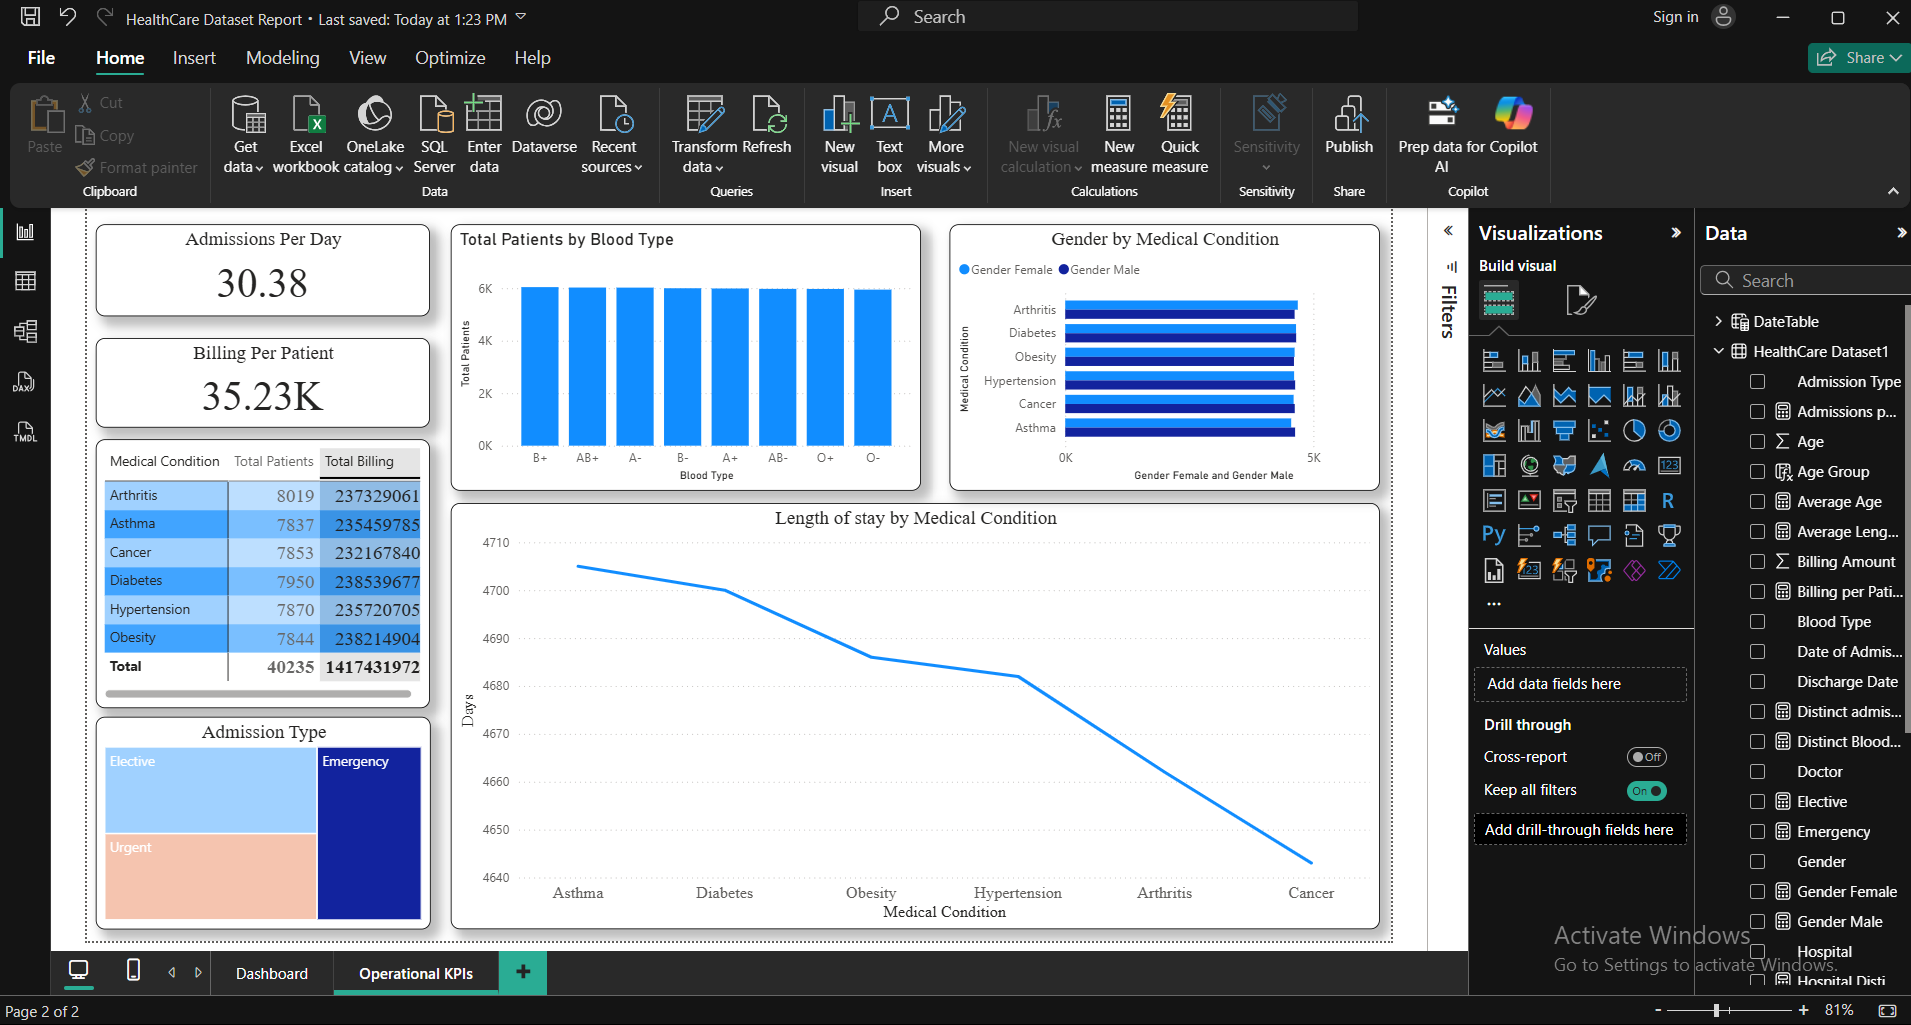

This screenshot's page, from the dashboard's own definition file:
{"tool":"powerbi","page":{"name":"Operational KPIs","canvas":[1280,720],"ordinal":1},"visuals":[{"type":"card","title":"Admissions Per Day","fields":{"Values":["HealthCare Dataset1.Admissions per Day"]},"box":[8.6,16,327.6,90.8],"z":0},{"type":"card","title":"Billing Per Patient","fields":{"Values":["HealthCare Dataset1.Billing per Patient"]},"box":[8.6,127.6,327.6,88.3],"z":1000},{"type":"pivotTable","fields":{"Rows":["HealthCare Dataset1.Medical Condition"],"Values":["HealthCare Dataset1.Total Patients","HealthCare Dataset1.Total Billing"]},"box":[8.6,227,327.6,263.8],"z":2000},{"type":"columnChart","fields":{"Y":["HealthCare Dataset1.Total Patients"],"Category":["HealthCare Dataset1.Blood Type"]},"box":[357.1,16,461.4,261.4],"z":3000},{"type":"pieChart","fields":{"Category":["HealthCare Dataset1.Test Results"]},"box":[606.1,407.4,327.6,184.1],"z":4000},{"type":"lineChart","title":"Length of stay by Medical Condition","fields":{"Category":["HealthCare Dataset1.Medical Condition"],"Y":["Sum(HealthCare Dataset1.Length of stay)"]},"box":[357.1,289.6,911.7,418.4],"z":5000},{"type":"clusteredBarChart","title":"Gender  by Medical Condition","fields":{"Y":["HealthCare Dataset1.Gender Female","HealthCare Dataset1.Gender Male"],"Category":["HealthCare Dataset1.Medical Condition"]},"box":[846.6,16,422.1,261.4],"z":6000},{"type":"treemap","title":"Admission Type","fields":{"Values":["HealthCare Dataset1.Admission type Elective","HealthCare Dataset1.Admission type Emergency","HealthCare Dataset1.Admission type Urgent"]},"box":[8.6,499.4,328.8,208.6],"z":6001}]}

Visuals, with their boxes on the page's 1280x720 design canvas (x1, y1, x2, y2). These are canvas units, not pixel positions in the 1911x1025 screenshot, which may show the page scaled, cropped or inside an application window:
"Admissions Per Day" card: pyautogui.locateOnScreen(9, 16, 336, 107)
"Billing Per Patient" card: pyautogui.locateOnScreen(9, 128, 336, 216)
pivotTable - HealthCare Dataset1.Medical Condition x HealthCare Dataset1.Total Patients: pyautogui.locateOnScreen(9, 227, 336, 491)
columnChart - HealthCare Dataset1.Total Patients x HealthCare Dataset1.Blood Type: pyautogui.locateOnScreen(357, 16, 818, 277)
pieChart - HealthCare Dataset1.Test Results: pyautogui.locateOnScreen(606, 407, 934, 592)
"Length of stay by Medical Condition" lineChart: pyautogui.locateOnScreen(357, 290, 1269, 708)
"Gender  by Medical Condition" clusteredBarChart: pyautogui.locateOnScreen(847, 16, 1269, 277)
"Admission Type" treemap: pyautogui.locateOnScreen(9, 499, 337, 708)
